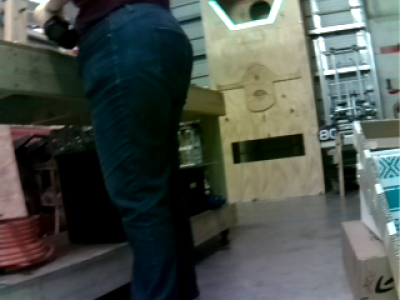target: (206, 1, 283, 32)
